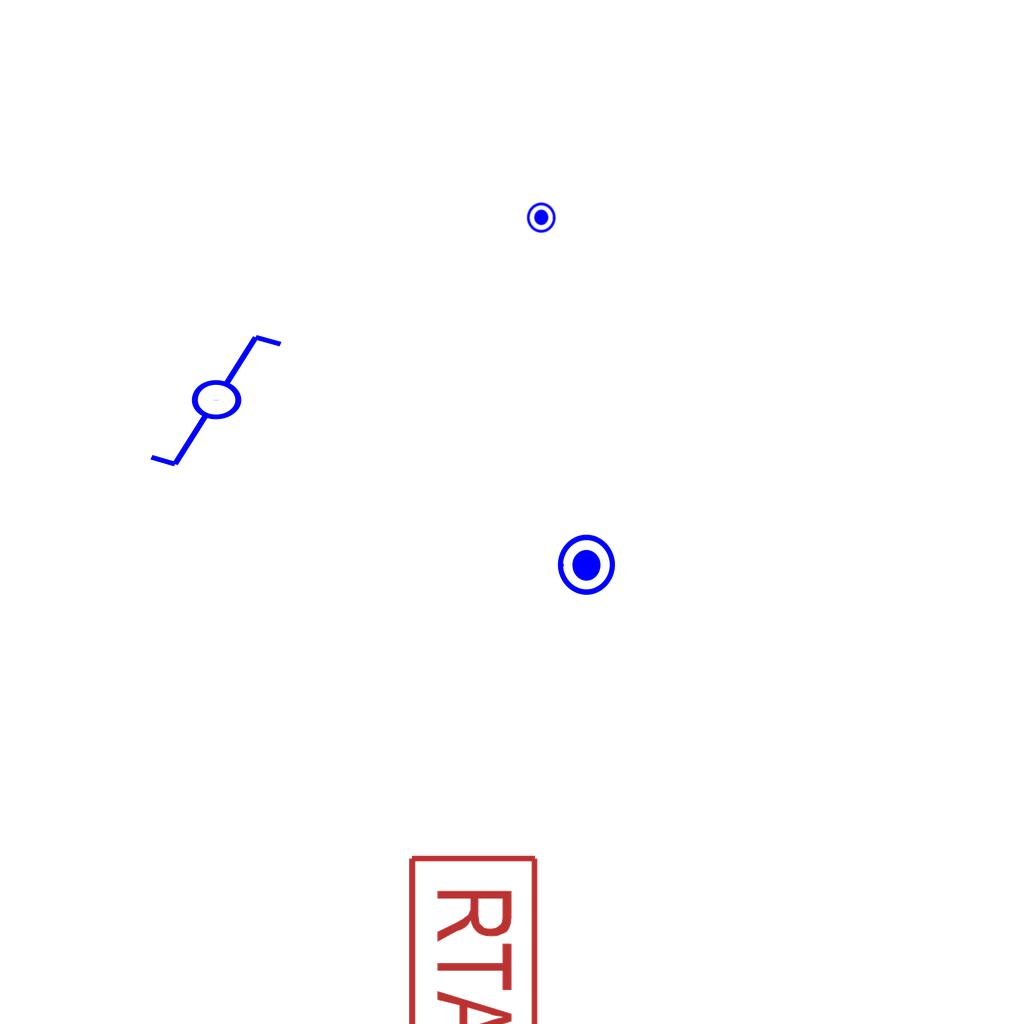Ruf-und_Abstelltaster: (404, 848, 542, 1024)
Taster: (551, 532, 617, 598), (526, 201, 559, 234)
Wechselschalter: (146, 330, 303, 474)
